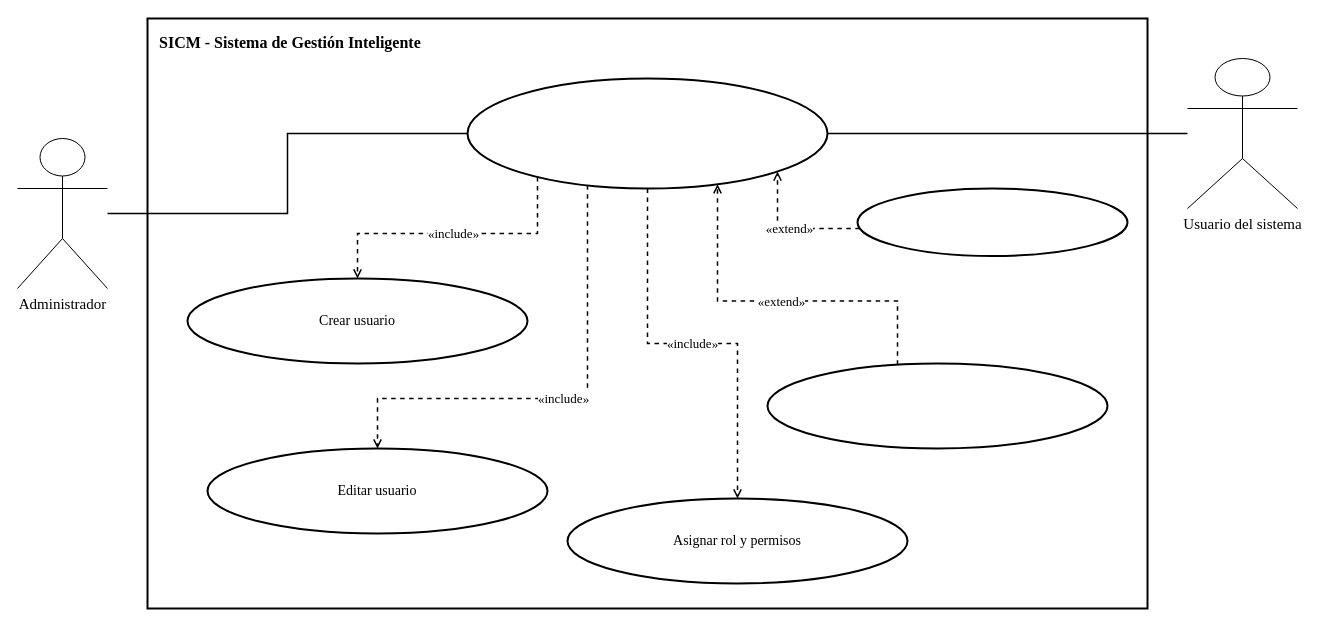
Image size: 1319x626. Some labels were removed from this diagram. The shapes that lost their labels are listed below. From the top down, each one's centre as x and y in pixels, then its label:
(647,133): Gestionar usuarios
(992,221): Desactivar usuario
(937,405): Notificar al usuario
